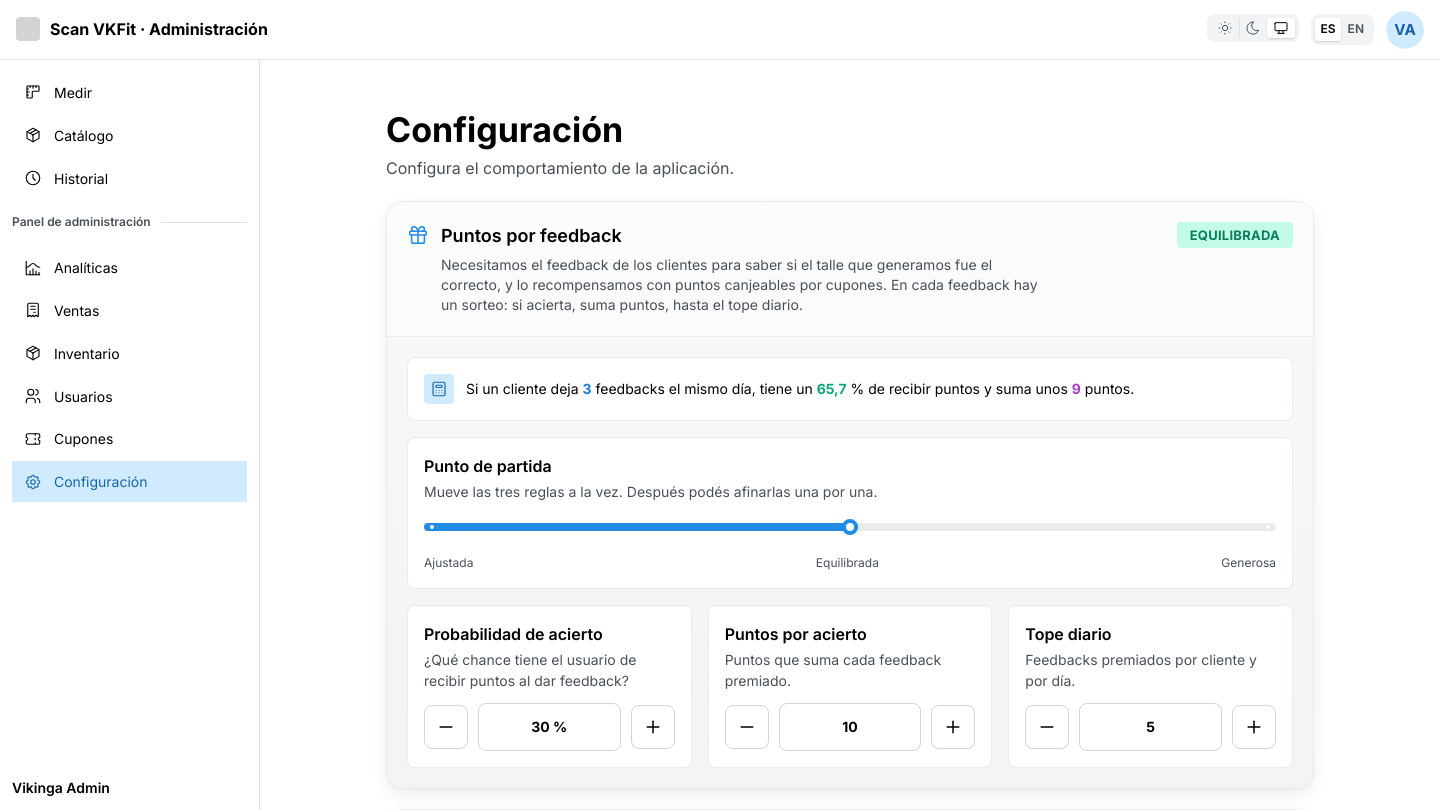
Scenario: configuración › mueve el valor con los botones, en el paso del campo
This screenshot has width=1440, height=810.
Click the button named "Aumentar: Probabilidad de acierto". click: point(653, 727)
box: [631,705,675,749]
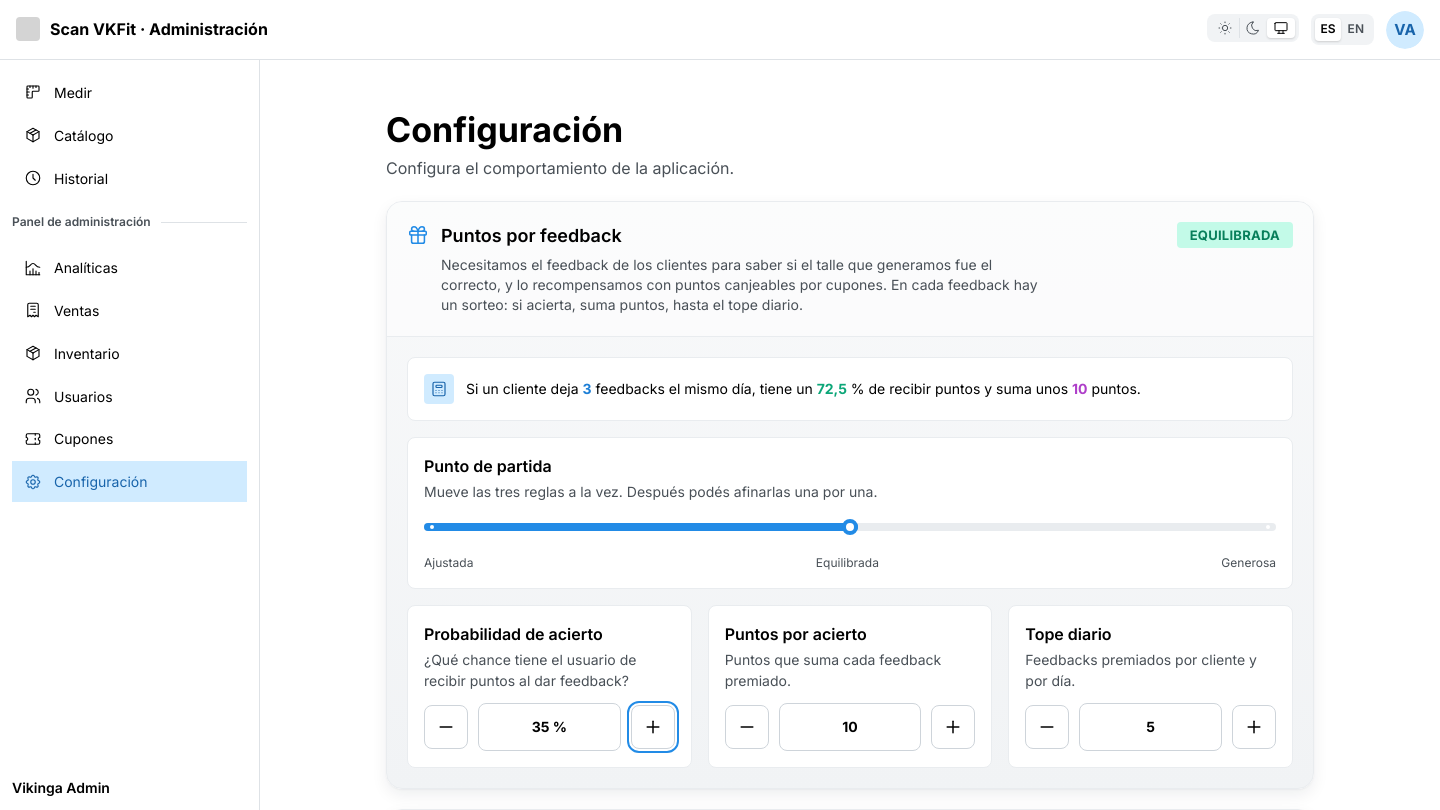
Expected: the field named "Probabilidad de acierto" holds "35 %", [478,703,621,751]
